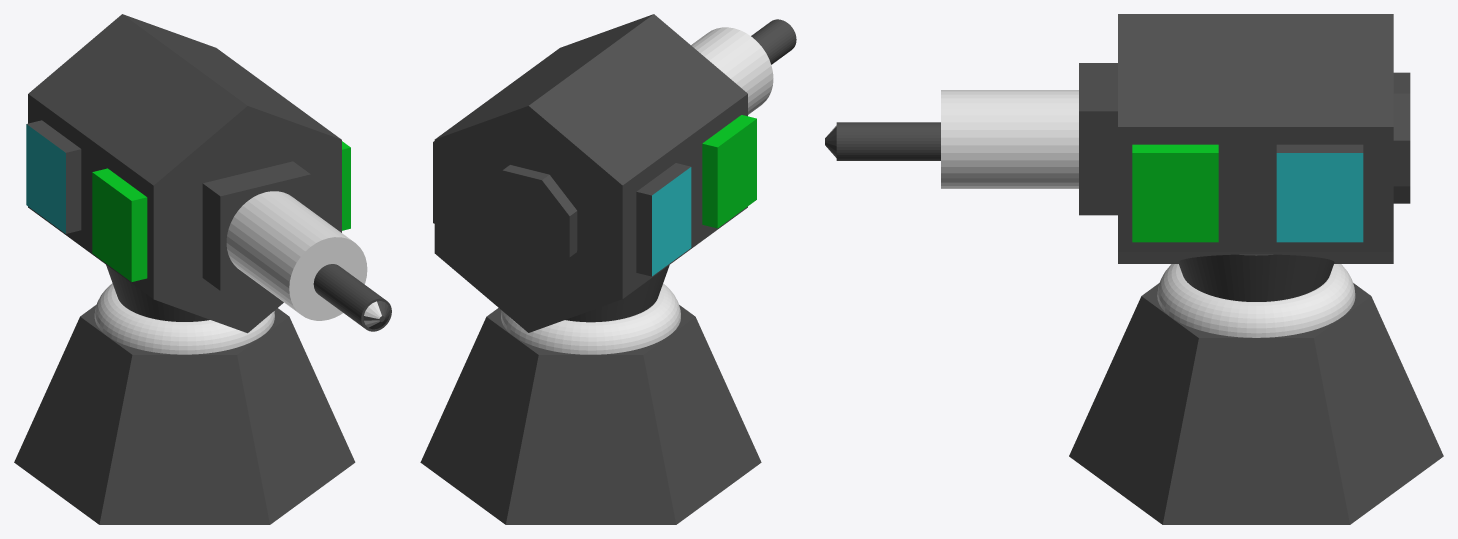
File: laser emitte to exportr.fbx
3 renders of one model, left to right at view 1: azimuth 30°, elevation 25°; view 2: azimuth 150°, elevation 25°; view 3: azimuth 270°, elevation 25°, orthographic. The views are drawn at different scales.
Visible parts, largest first — view 1: Cylinder.003; view 2: Cylinder.003; view 3: Cylinder.003.
Boxes of the visible parts, x1,y1,x2,y2 form: Cylinder.003: (14,14,391,524); Cylinder.003: (420,14,796,524); Cylinder.003: (825,14,1443,524).
Bounding box in the file's own units: 184 × 276 × 350.
